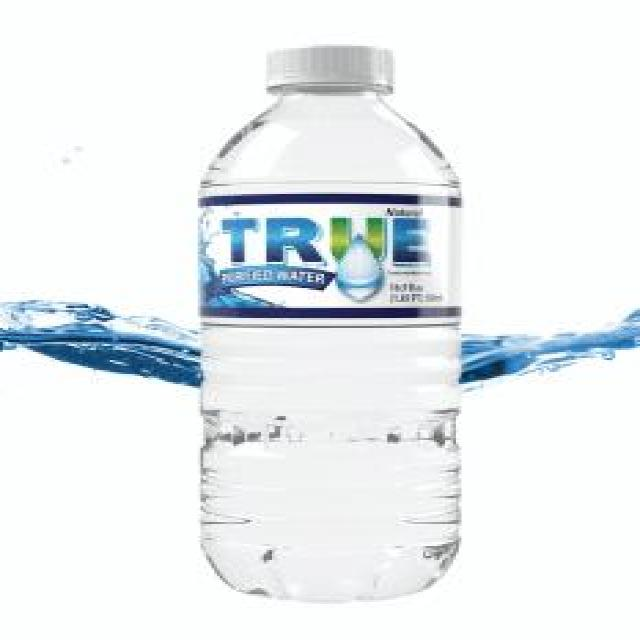bottle: (167, 18, 486, 606)
